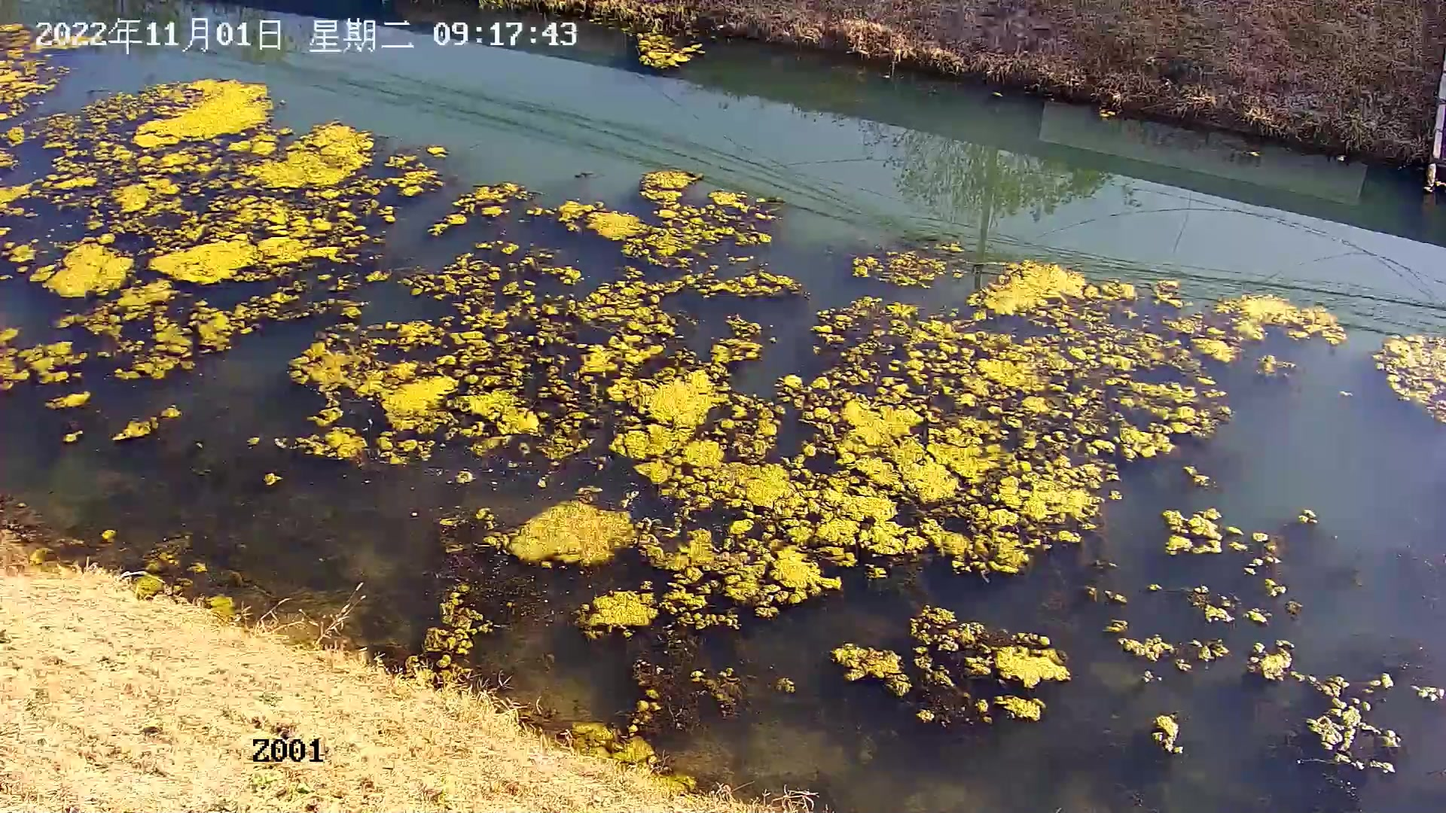floater: (805, 238, 1352, 730), (359, 160, 801, 644), (2, 22, 428, 455), (1302, 670, 1446, 776), (1377, 333, 1446, 425), (631, 24, 703, 73)
